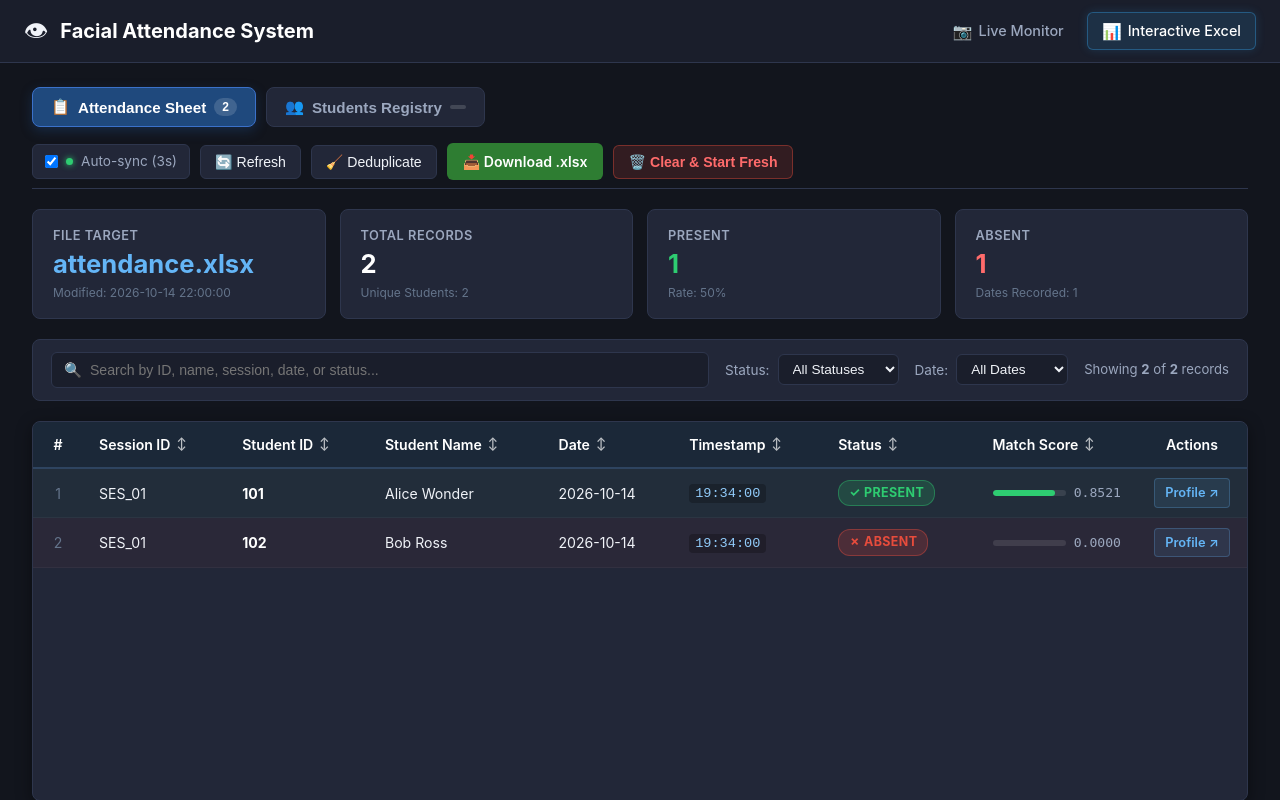
Test: ExcelViewerPage Component › filters rows when typing in the search box
Check: the text "Alice Wonder" is shown, box x1=385 y1=484 x2=474 y2=502
Type "Bob" into the field with placeholder "Search by ID, name, session, date, or status..." at {"x": 393, "y": 370}, box x1=90 y1=362 x2=696 y2=378
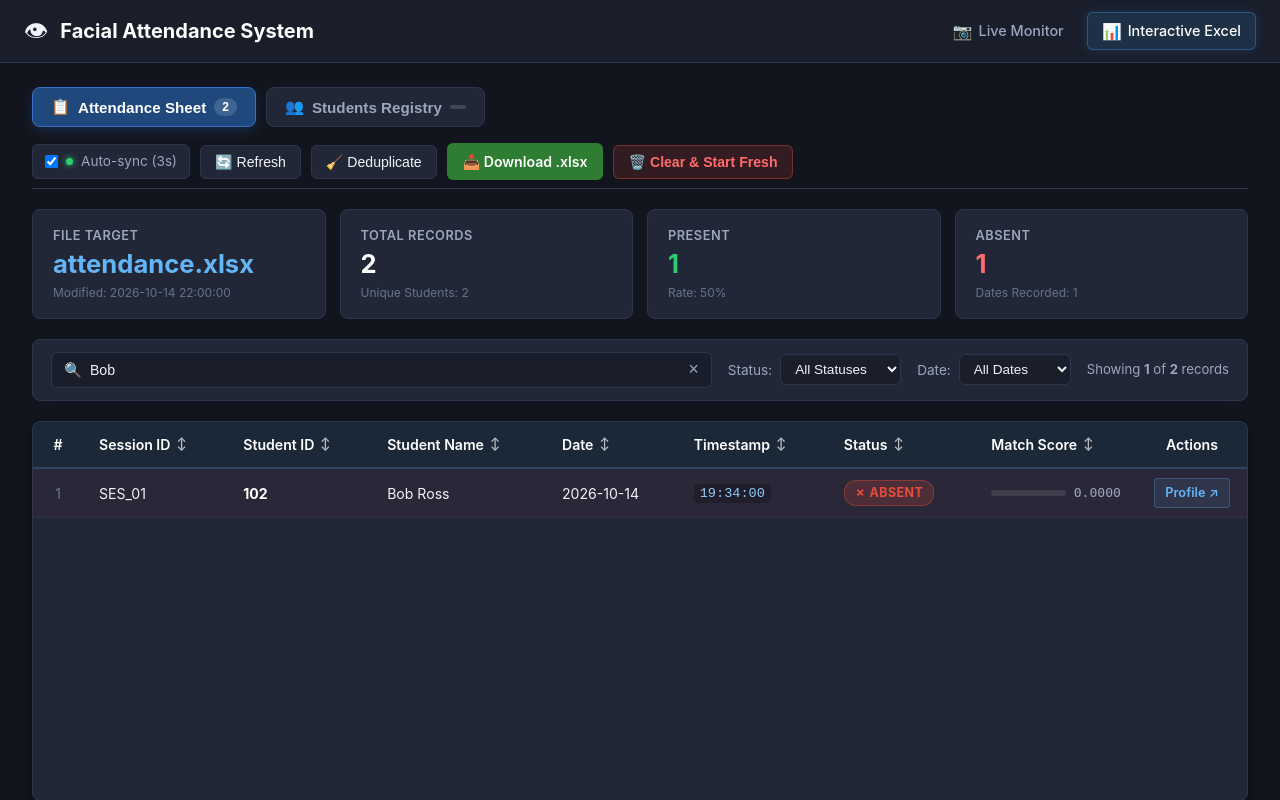
Check: the text "Bob Ross" is shown, box x1=387 y1=484 x2=450 y2=502
Check: the text "Alice Wonder" is gone
